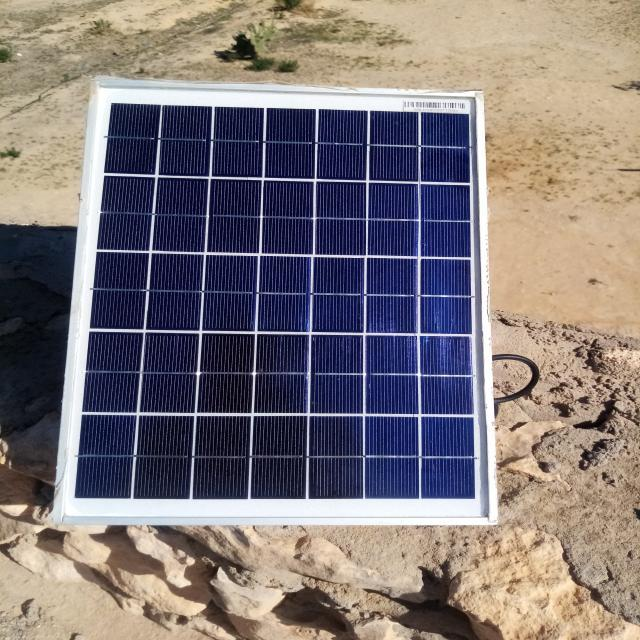no faulty: (57, 85, 496, 523)
